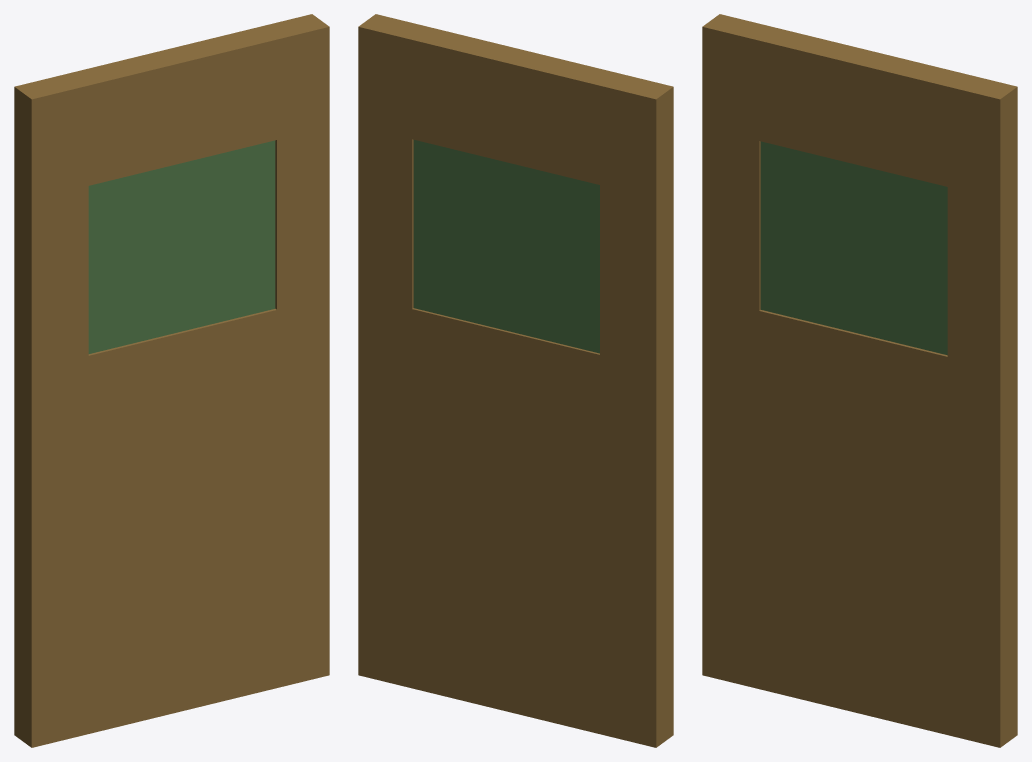
File: Puerta_Izquierda.fbx
3 views of the same model, side by side, from view 1: azimuth 30°, elevation 25°; view 2: azimuth 150°, elevation 25°; view 3: azimuth 330°, elevation 25° (orthographic).
Parts seen in each view (by area): view 1: polySurface16; view 2: polySurface16; view 3: polySurface16.
Part boxes in pixels (x1,y1,x2,y2): polySurface16: [14, 14, 329, 747]; polySurface16: [358, 14, 673, 747]; polySurface16: [702, 14, 1017, 747].
Size of the model in its own units: 3.49 by 7.26 by 0.3538.
